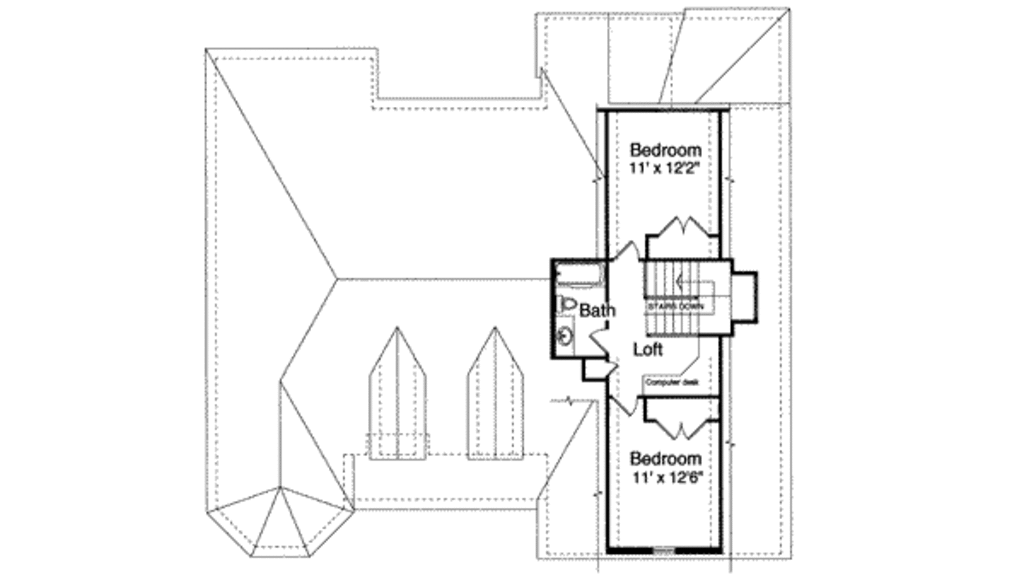door: (656, 211, 718, 237), (654, 418, 708, 442), (611, 396, 644, 422), (591, 321, 614, 358), (612, 240, 644, 264)
large_sink: (555, 291, 590, 315)
small_sink: (553, 312, 581, 355)
stairs: (645, 260, 732, 335)
tub: (551, 259, 613, 285)
window: (650, 546, 678, 556)
